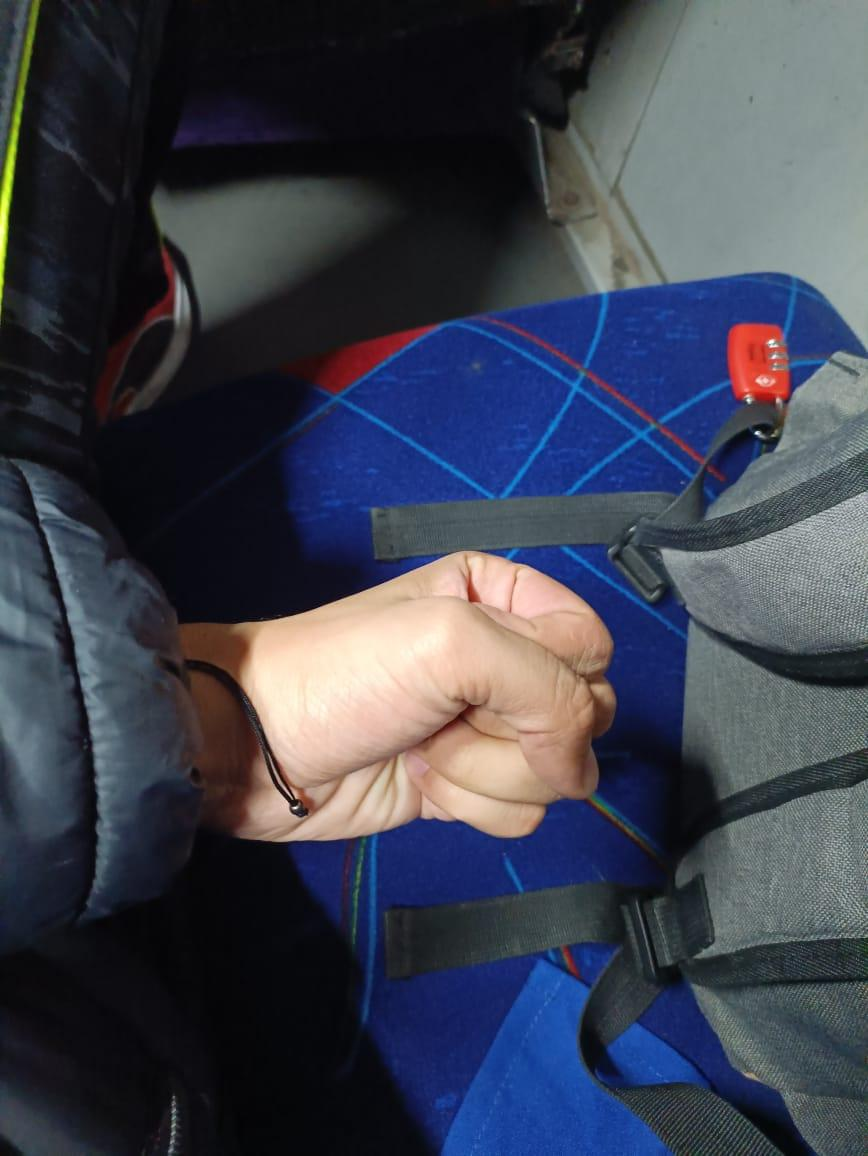Stone: (95, 517, 675, 885)
